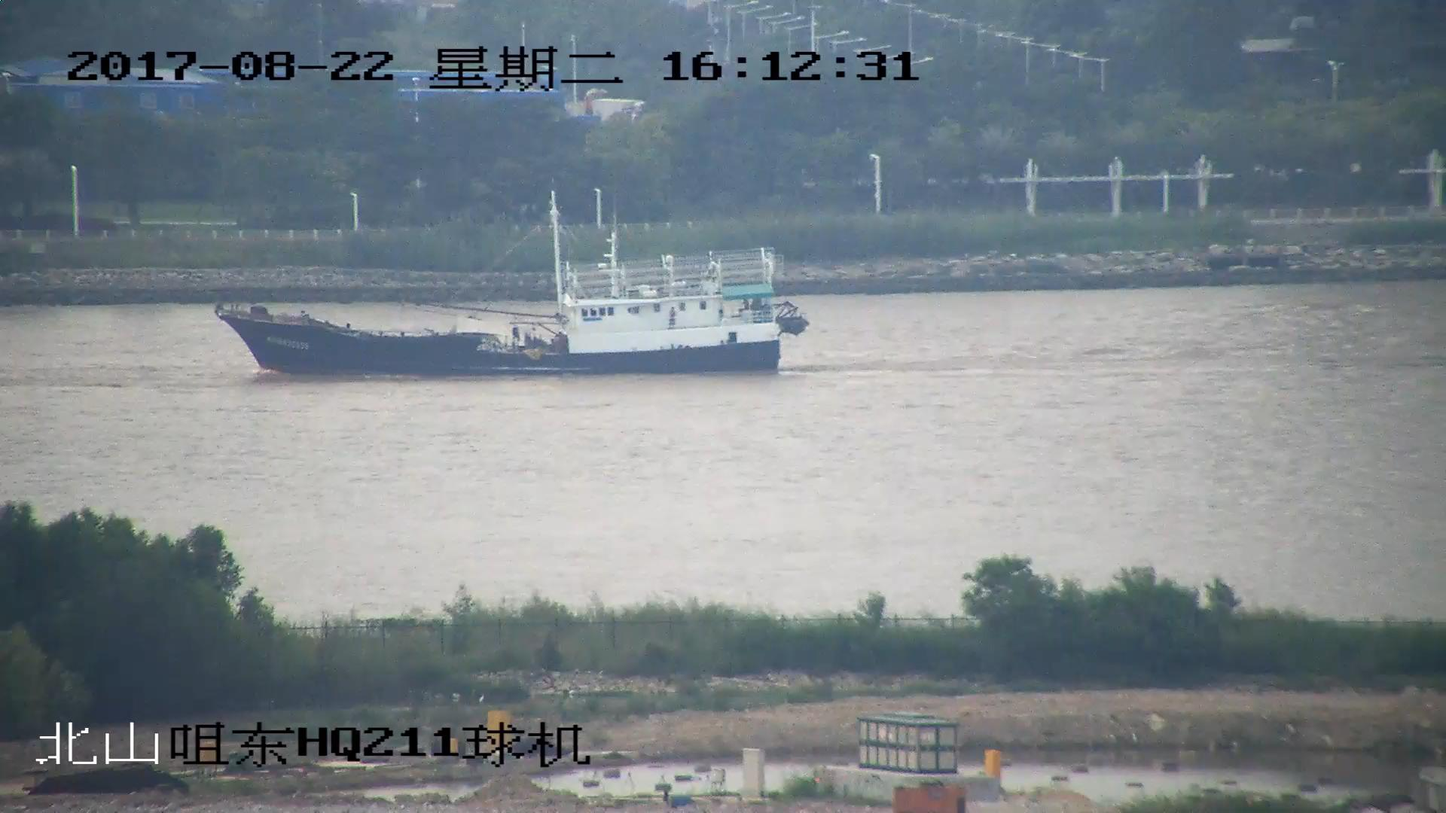fishing boat: (210, 196, 806, 379)
